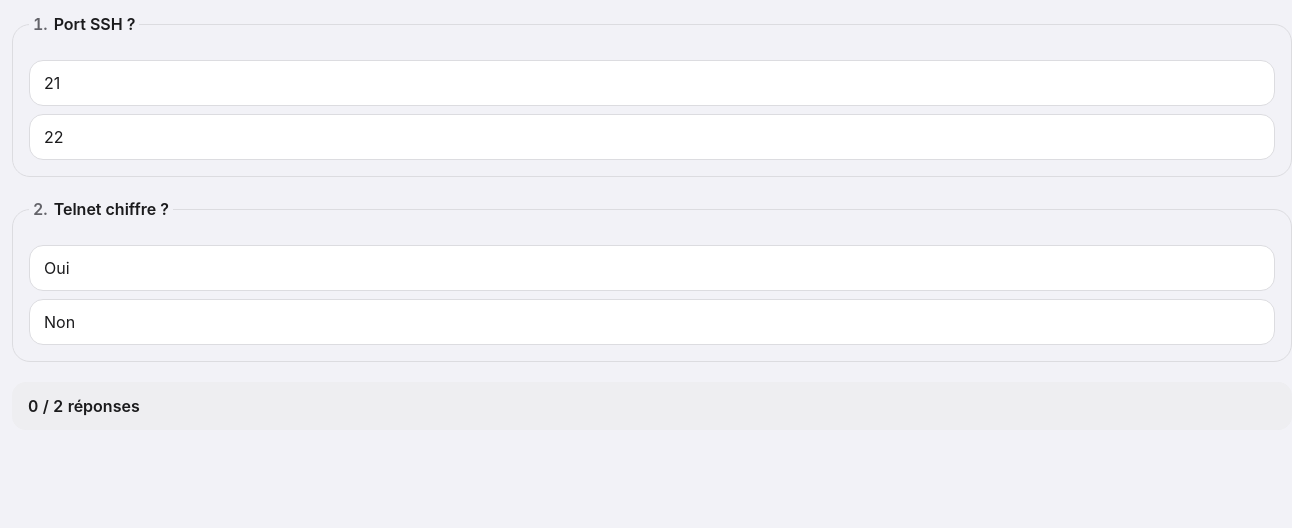
Quiz et flashcards du studio › le quiz corrige chaque réponse et donne une note sur 20
Click the button "22".
click(54, 137)  # box x1=29 y1=114 x2=1275 y2=160
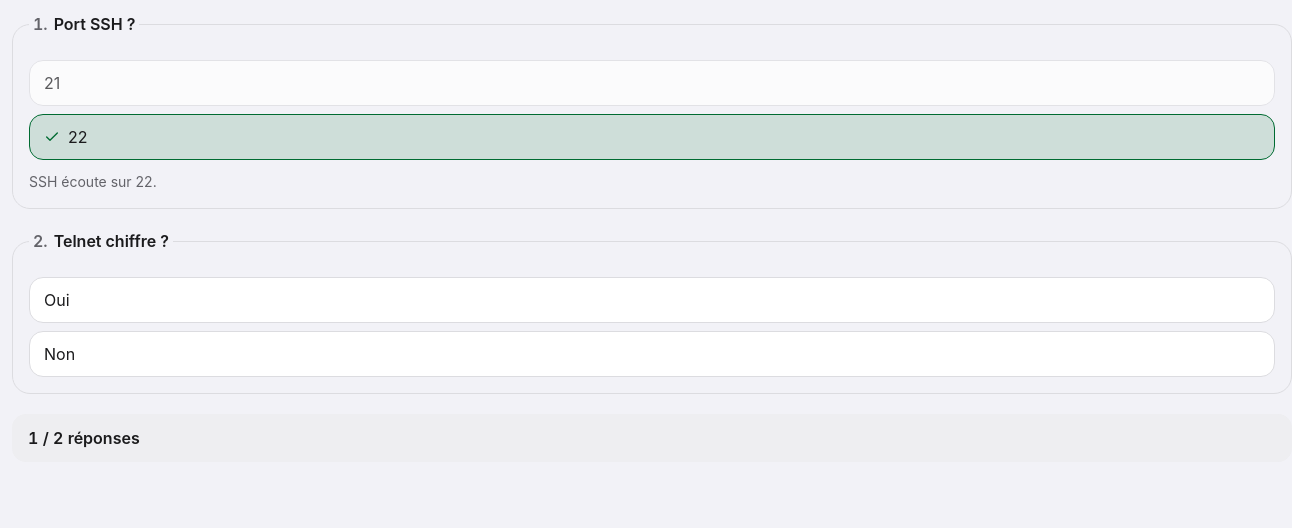
Expected: the text "SSH écoute sur 22." is shown, x1=29 y1=173 x2=157 y2=190
Click the button "Oui".
click(57, 300)  # box x1=29 y1=277 x2=1275 y2=323
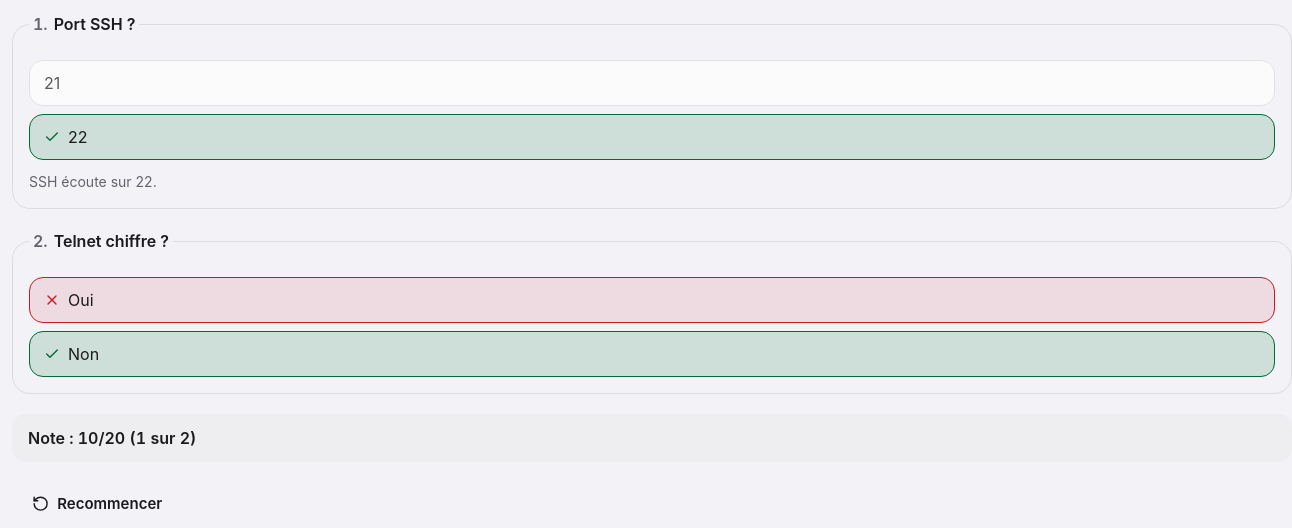
Expected: the message reads "Note : 10/20 (1 sur 2)", x1=28 y1=428 x2=196 y2=448
